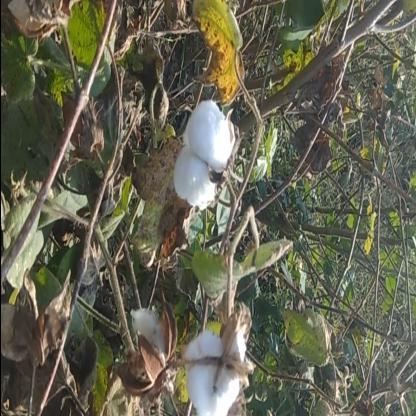cotton_ready: (168, 96, 244, 232), (172, 314, 253, 416)
